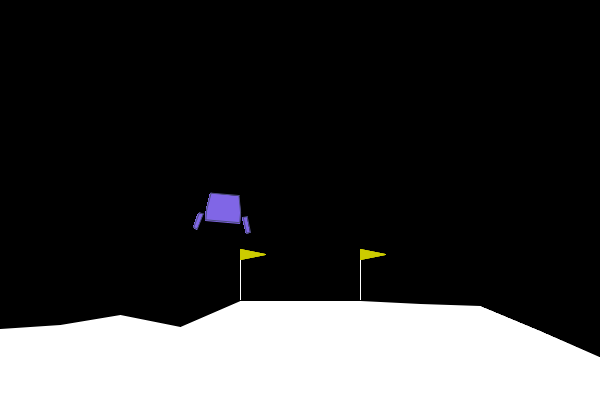lander: (191, 190, 255, 235)
